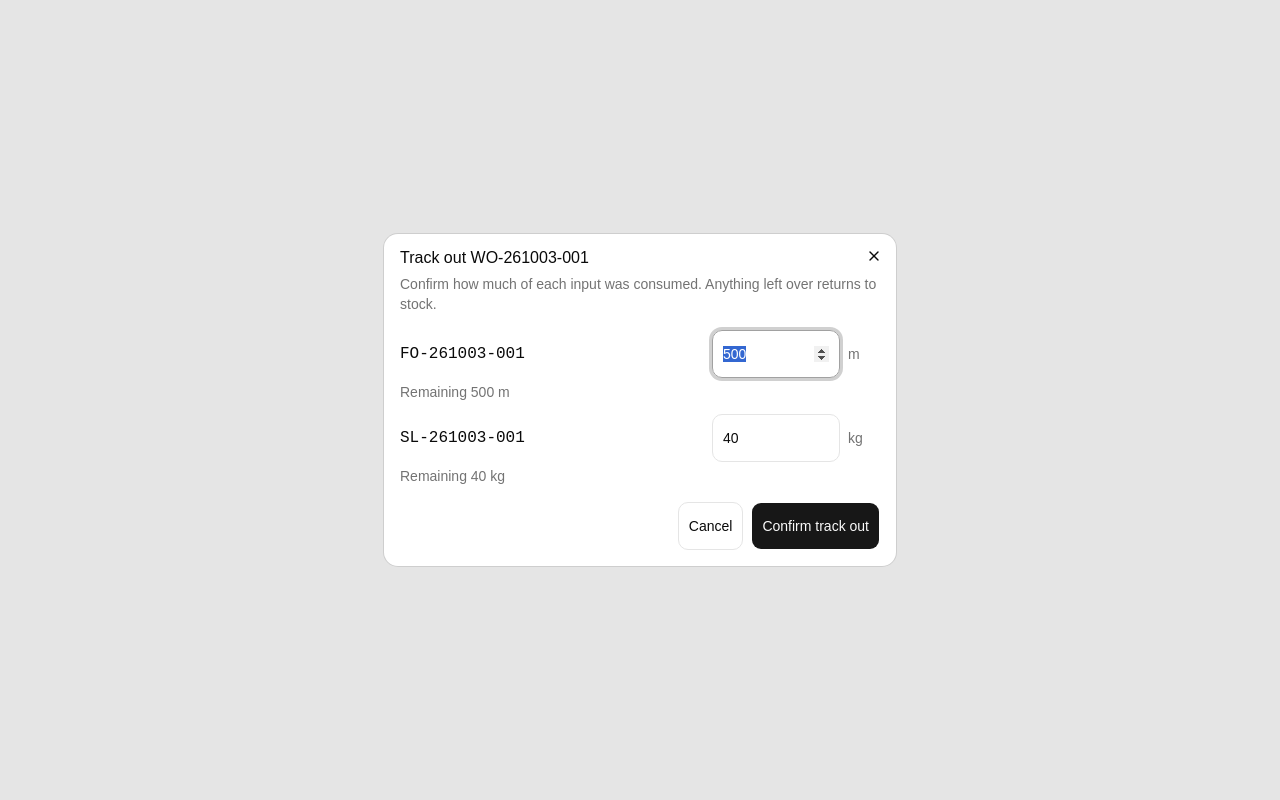
TrackOutDialog › blocks a consumed qty above the remaining qty
Step 1. Clear the number field named "Consumed SL-261003-001" → (776, 438), box [712,414,840,462]
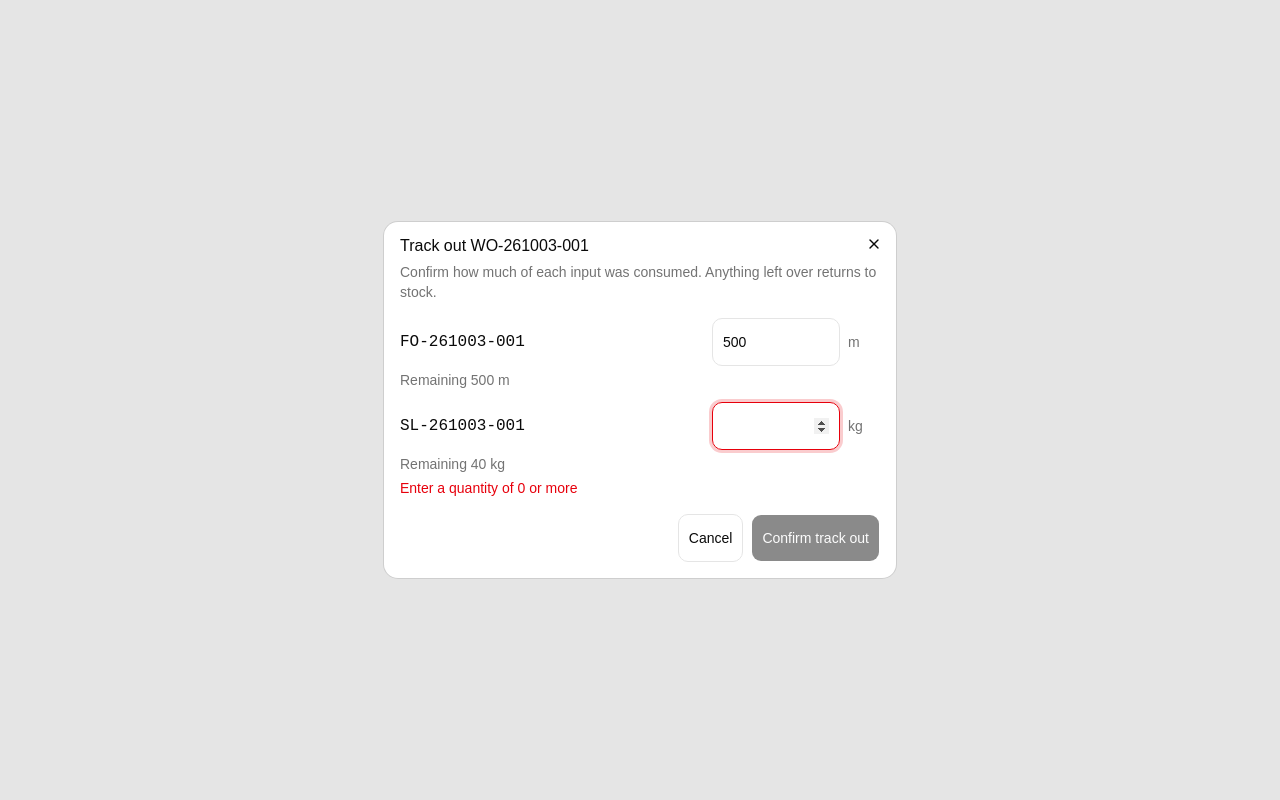
Step 2. Type "41" into the number field named "Consumed SL-261003-001" → (776, 426), box [712,402,840,450]
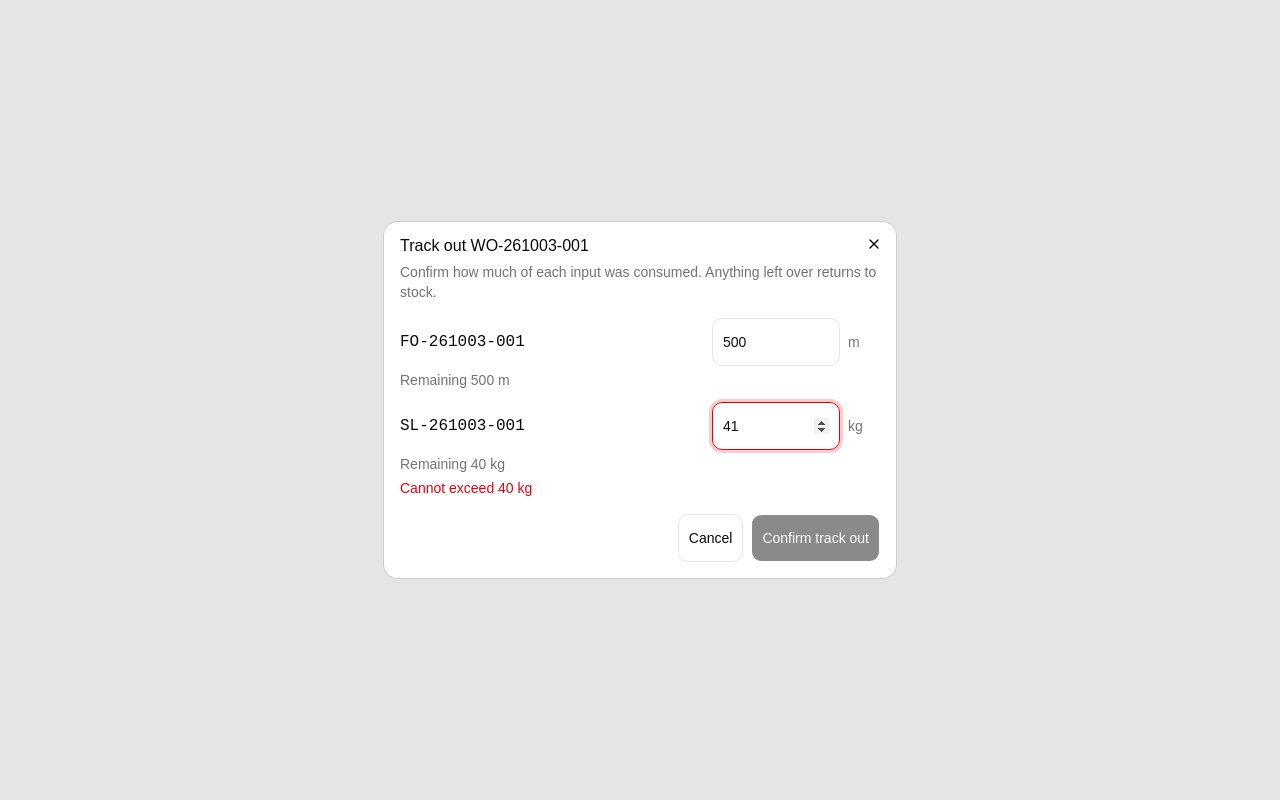
Check: the button "Confirm track out" is disabled, box [751,514,880,562]
Check: the text "Cannot exceed 40 kg" is shown, box [400,480,532,496]
